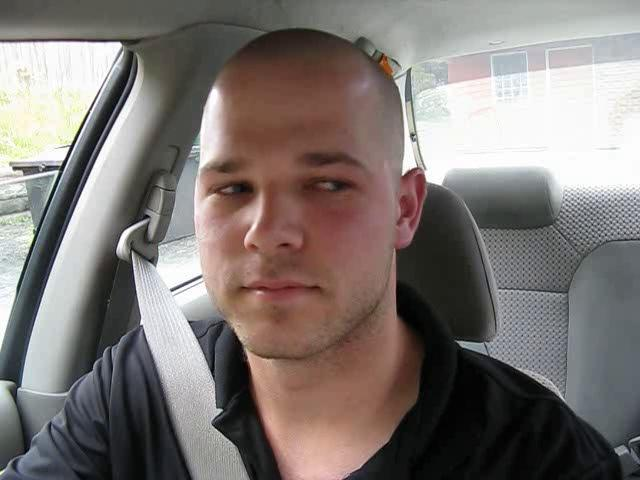close_eyeL: (191, 164, 269, 217)
close_eyeR: (285, 156, 378, 214)
no_yawn: (216, 262, 336, 323)
